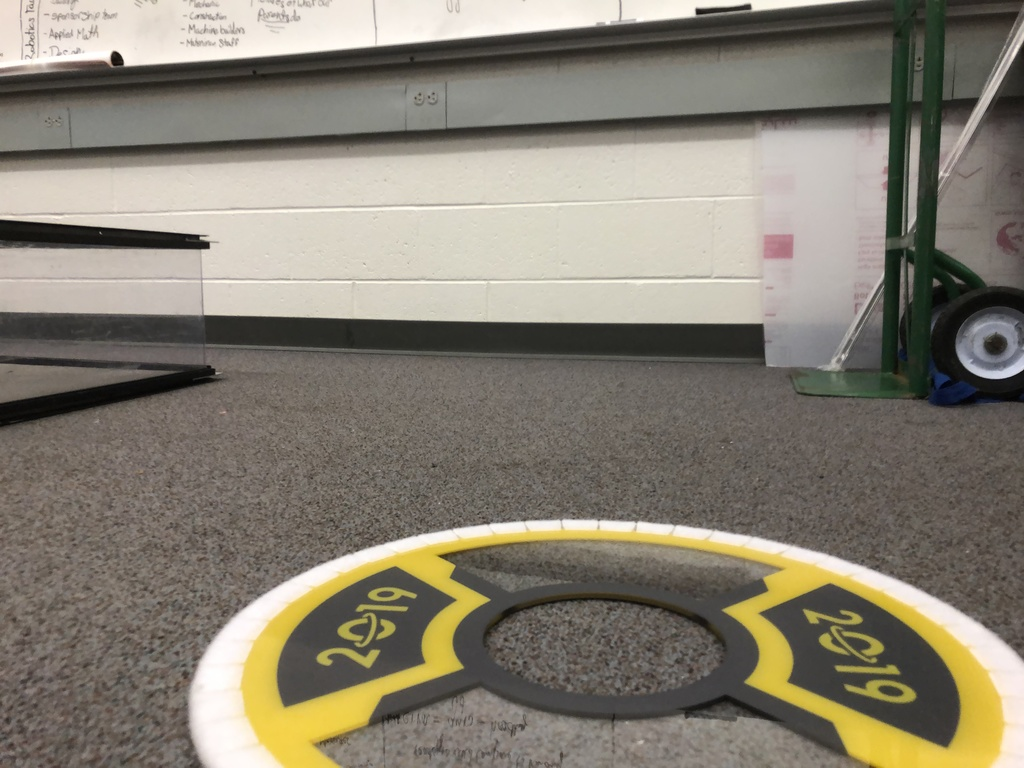hatch_panel: (179, 511, 1020, 768)
